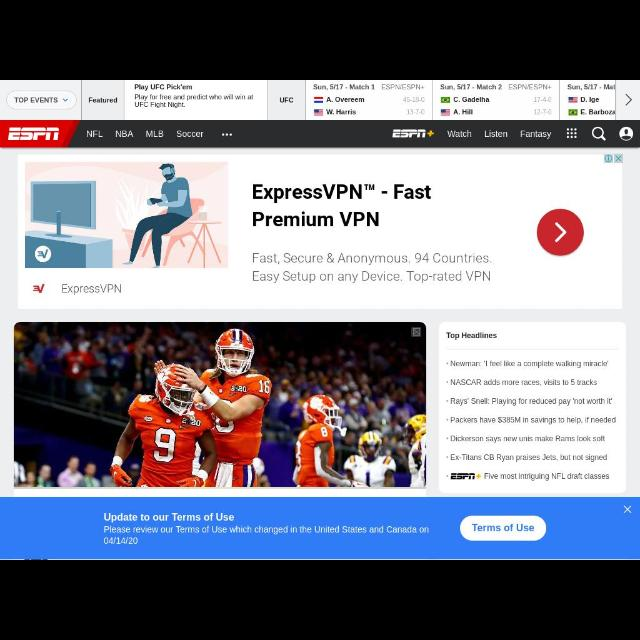icon: (619, 126, 635, 142), (592, 127, 606, 141), (566, 127, 578, 139), (624, 93, 634, 107), (623, 505, 633, 515), (221, 132, 233, 138), (62, 97, 70, 103)
iframe: (19, 154, 624, 310)
image: (14, 322, 426, 488), (1, 120, 81, 148), (392, 129, 434, 139), (450, 472, 482, 482), (441, 96, 451, 104), (568, 96, 578, 104), (441, 108, 451, 115), (314, 97, 324, 103), (314, 110, 324, 116), (568, 110, 578, 116)
multitab: (82, 120, 240, 148)
spinner: (7, 92, 78, 108)
text: (102, 524, 430, 546), (134, 93, 254, 109), (102, 511, 236, 524), (451, 452, 609, 463), (450, 415, 616, 425), (451, 396, 614, 406), (450, 359, 610, 369), (449, 434, 605, 444), (450, 378, 598, 387), (484, 472, 610, 482), (134, 83, 193, 91), (446, 332, 498, 341), (313, 84, 375, 90), (440, 84, 502, 90), (14, 96, 58, 104), (326, 96, 366, 104), (520, 130, 552, 140), (454, 96, 491, 104), (567, 84, 615, 90), (176, 130, 204, 140), (509, 84, 553, 90), (382, 84, 424, 90), (580, 108, 616, 115), (88, 96, 118, 104), (326, 108, 356, 115), (447, 130, 473, 138), (484, 130, 508, 138), (403, 96, 425, 104), (580, 96, 600, 104), (534, 96, 552, 104), (116, 130, 134, 138), (146, 130, 164, 138), (86, 130, 102, 138), (534, 108, 552, 115), (406, 109, 426, 115), (454, 109, 474, 115), (280, 96, 294, 104)
textbutton: (460, 516, 548, 542)
toolbar: (384, 121, 640, 147)
